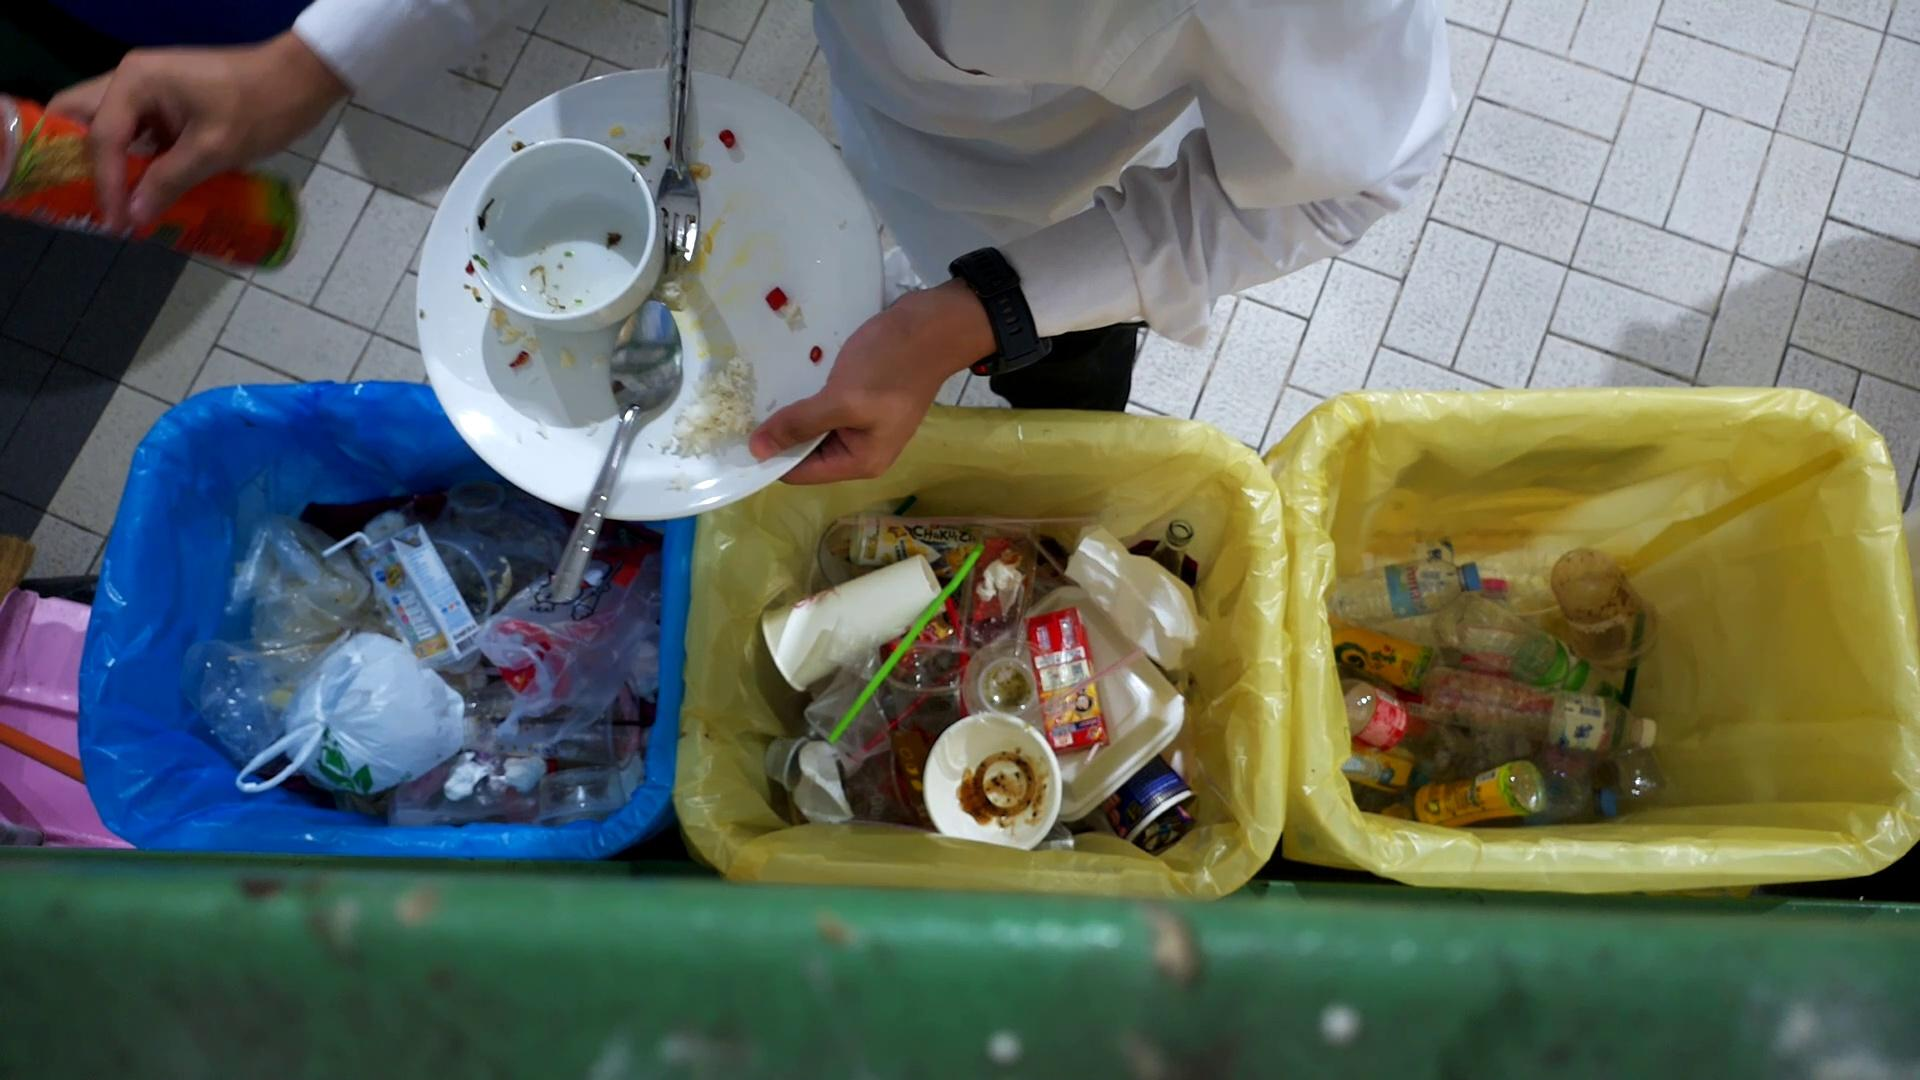can: (844, 508, 990, 579)
filled plastic bag: (477, 530, 667, 742), (235, 633, 465, 800), (942, 525, 1058, 665)
food container: (918, 709, 1063, 853), (430, 526, 517, 624), (531, 762, 625, 823), (976, 655, 1040, 720), (761, 731, 814, 796)
milk carton: (357, 524, 483, 676), (1023, 604, 1113, 754)
plastic bag: (223, 505, 372, 644), (1068, 524, 1188, 675), (803, 618, 897, 783), (382, 741, 550, 831)
plastic bottle: (0, 88, 315, 277), (1418, 659, 1662, 758), (1439, 584, 1623, 700), (1331, 547, 1486, 641), (1379, 756, 1548, 828)
plastic cup: (1552, 542, 1669, 671)
straw: (824, 545, 988, 746), (1031, 651, 1149, 727), (823, 516, 1096, 531), (323, 533, 373, 567)
tissue paper: (795, 736, 856, 825), (442, 752, 492, 802), (501, 750, 551, 794)
zero waste cup: (760, 551, 948, 694)
